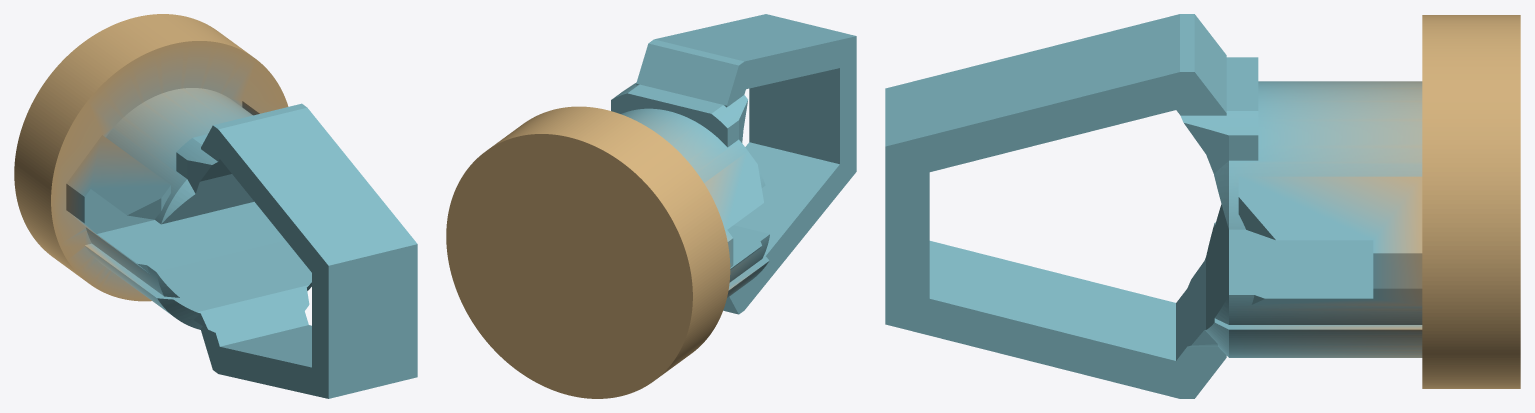
The model's file is lower-hoop-cheek.glb.
The picture shows the model from 3 angles, left to right: view 1: azimuth 30°, elevation 25°; view 2: azimuth 150°, elevation 25°; view 3: azimuth 270°, elevation 25°; orthographic projection. The views are drawn at different scales.
Parts seen in each view (by area): view 1: peg-lower-hoop-cheek__v1__pf02c9-hoop5__nub120.stl; view 2: peg-lower-hoop-cheek__v1__pf02c9-hoop5__nub120.stl; view 3: peg-lower-hoop-cheek__v1__pf02c9-hoop5__nub120.stl.
Part boxes in pixels (x1=…): peg-lower-hoop-cheek__v1__pf02c9-hoop5__nub120.stl: x1=14, y1=14, x2=417, y2=398; peg-lower-hoop-cheek__v1__pf02c9-hoop5__nub120.stl: x1=446, y1=14, x2=856, y2=398; peg-lower-hoop-cheek__v1__pf02c9-hoop5__nub120.stl: x1=885, y1=14, x2=1520, y2=398.
Size of the model in its own units: 0.00762 by 0.00762 by 0.0129.
